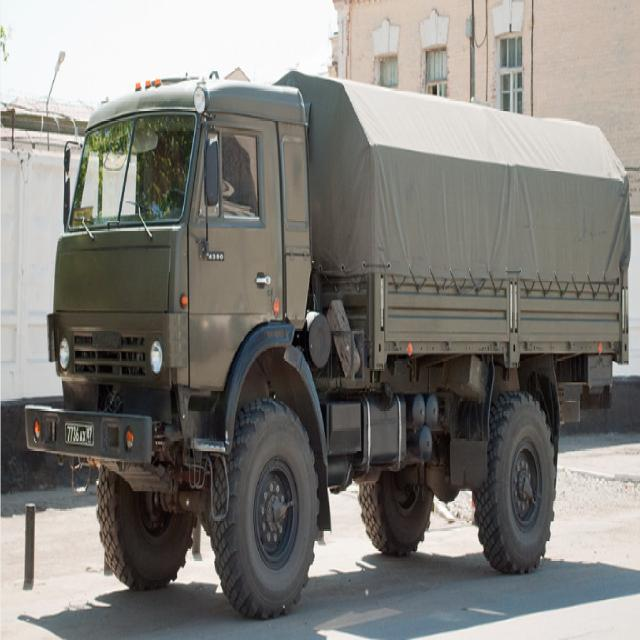TRUCK: (21, 60, 632, 621)
